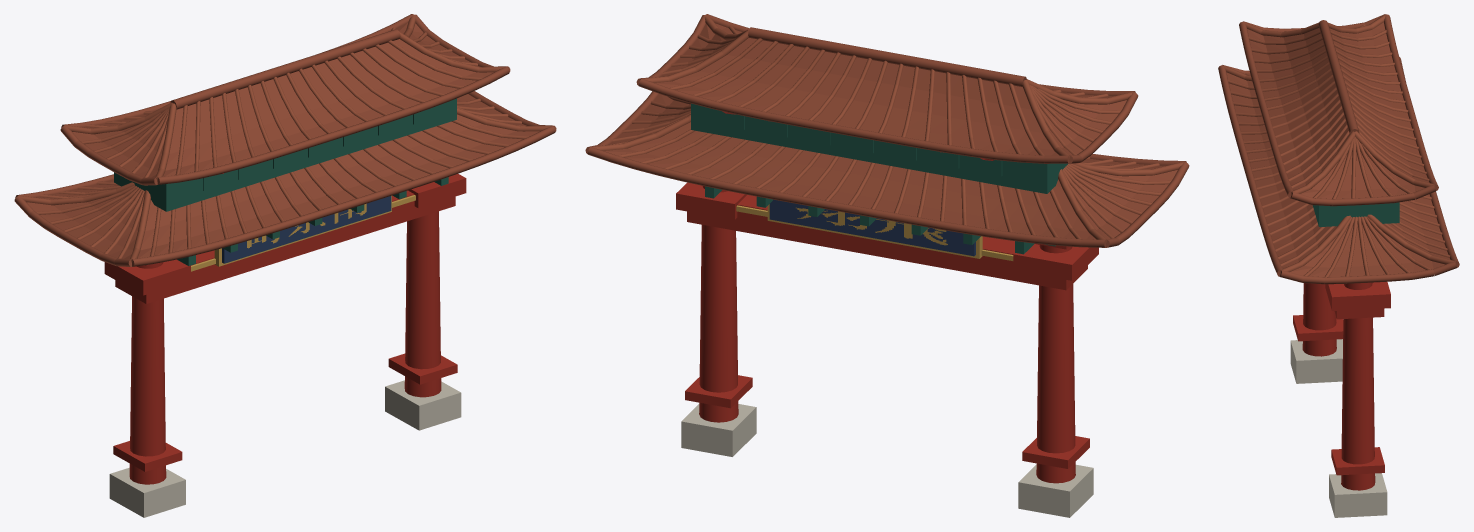
Rendered from nankinmachi-kaiei.glb.
The picture shows the model from 3 angles, left to right: view 1: azimuth 30°, elevation 25°; view 2: azimuth 150°, elevation 25°; view 3: azimuth 270°, elevation 25°; orthographic projection. The views are drawn at different scales.
Size of the model in its own units: 9.71 by 7.6 by 4.56.
